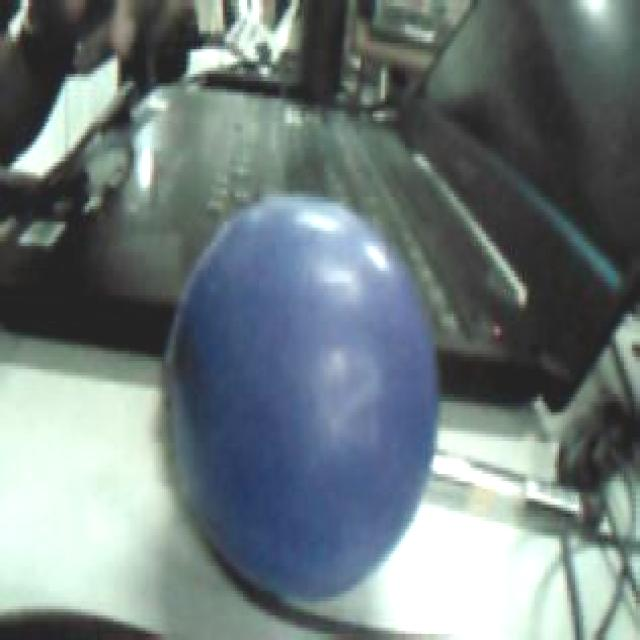BallPurple: (168, 193, 437, 599)
